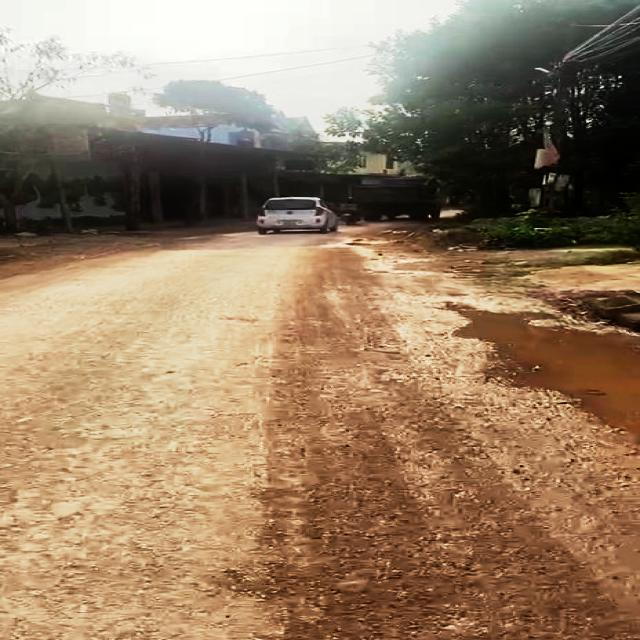pothole: (438, 291, 640, 440)
